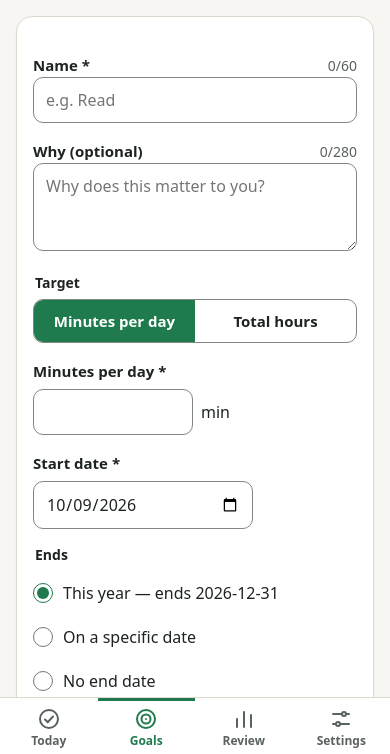
Test case: GoalForm (M1-AC2, M1-AC3, M1-AC8) › shows the inline error for an empty name and does not save
Type "30" into the field labelled "Minutes per day *" at (113, 412), box [33,389,193,435]
(page scrolled)
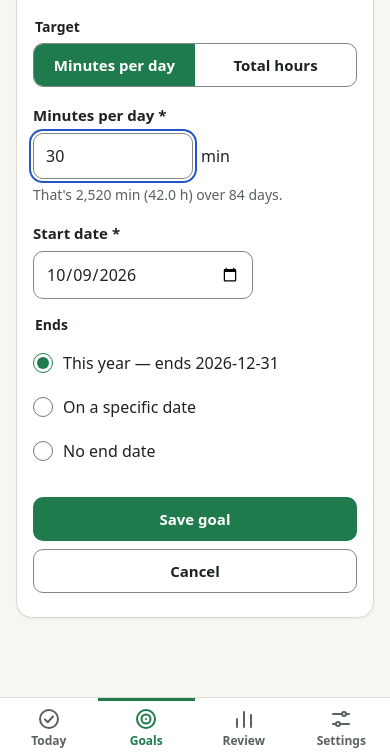
Click the button "Save goal" at (195, 519), box [33,497,357,541]
(page scrolled)
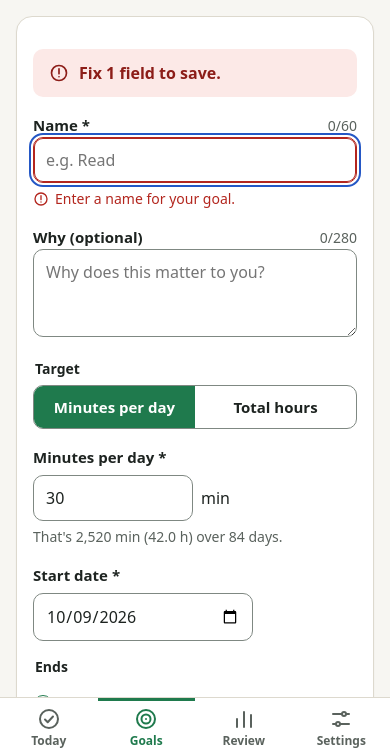
Result: the element with id "goal-name-err" reads "Enter a name for your goal." at [55,189,235,208]
Result: the message reads "Fix 1 field to save." at [79,62,221,84]
